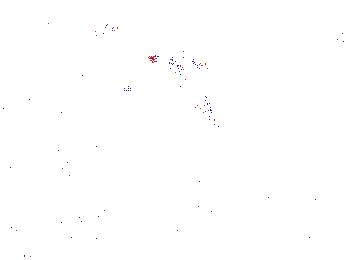glassfish: (168, 62, 219, 140)
red belly glassfish: (284, 118, 297, 137), (100, 23, 123, 33)
redtail glassfish: (145, 50, 206, 71)
siberian prawn: (34, 214, 113, 260)
